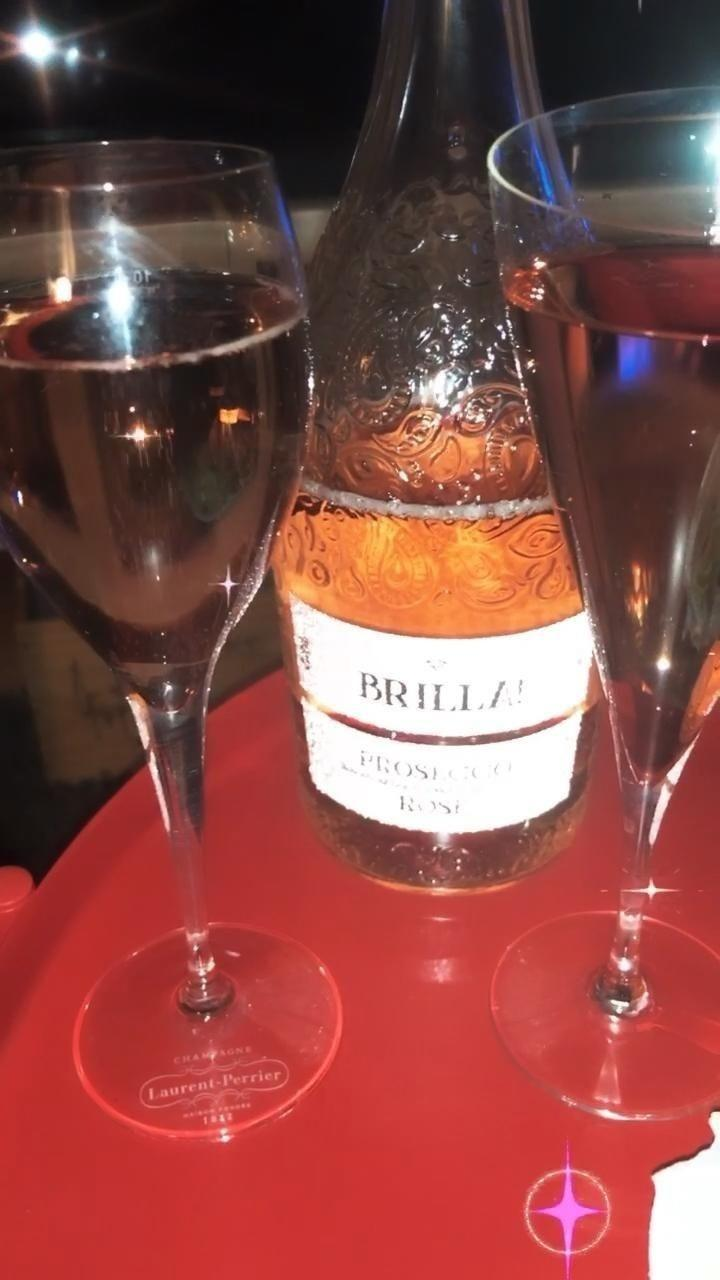bottle-glass: (270, 16, 618, 895)
glass-wine: (0, 126, 358, 1153), (479, 73, 720, 1143)
